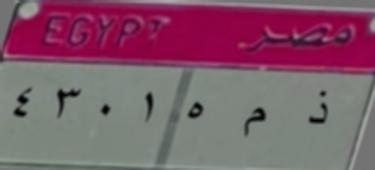0: (96, 96, 118, 126)
1: (136, 86, 163, 132)
3: (53, 85, 84, 121)
4: (11, 86, 41, 123)
haa: (186, 94, 205, 130)
meem: (237, 102, 268, 146)
zaal: (301, 88, 332, 134)
